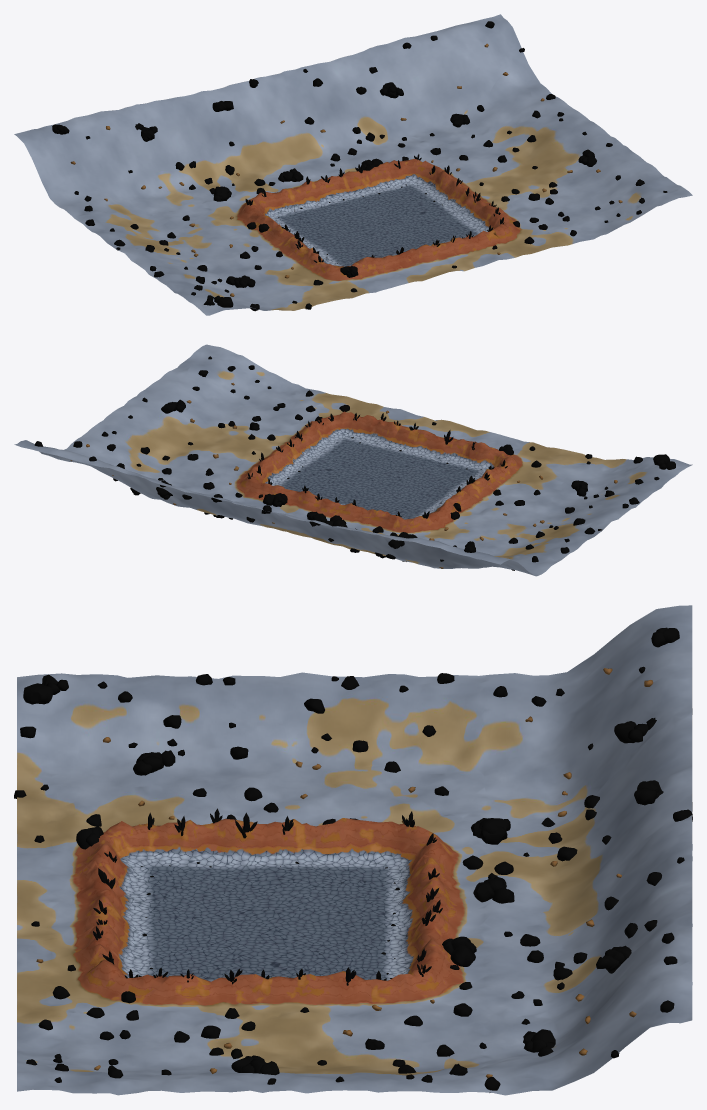
Rendered from surroundings_13x11.glb.
The picture shows the model from 3 angles, top to bottom: view 1: azimuth 30°, elevation 25°; view 2: azimuth 150°, elevation 25°; view 3: azimuth 270°, elevation 25°; orthographic projection. The views are drawn at different scales.
Parts seen in each view (by area): view 1: ground, props; view 2: ground, props; view 3: ground, props.
Boxes of the visible parts, box(x1,y1,x2,y2) form: ground: box(14, 14, 692, 315); props: box(52, 21, 667, 311); ground: box(14, 344, 692, 576); props: box(34, 356, 675, 570); ground: box(17, 605, 692, 1095); props: box(14, 627, 692, 1092).
Bounding box in the file's own units: 57.25 × 7.76 × 39.21.
Materials: 2 (2 with a texture image).
